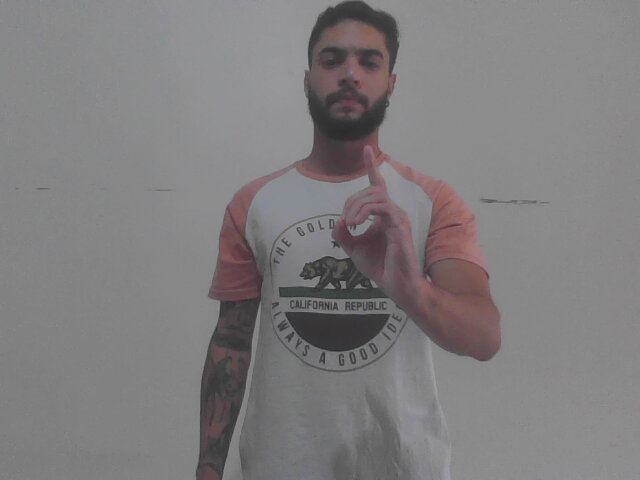d: (329, 141, 424, 299)
